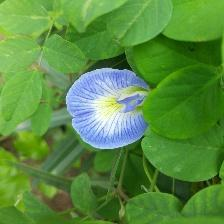shankupushpam: (64, 67, 158, 152)
